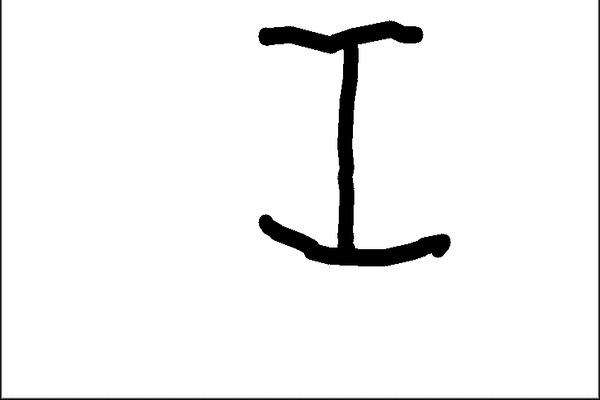i: (239, 5, 466, 276)
